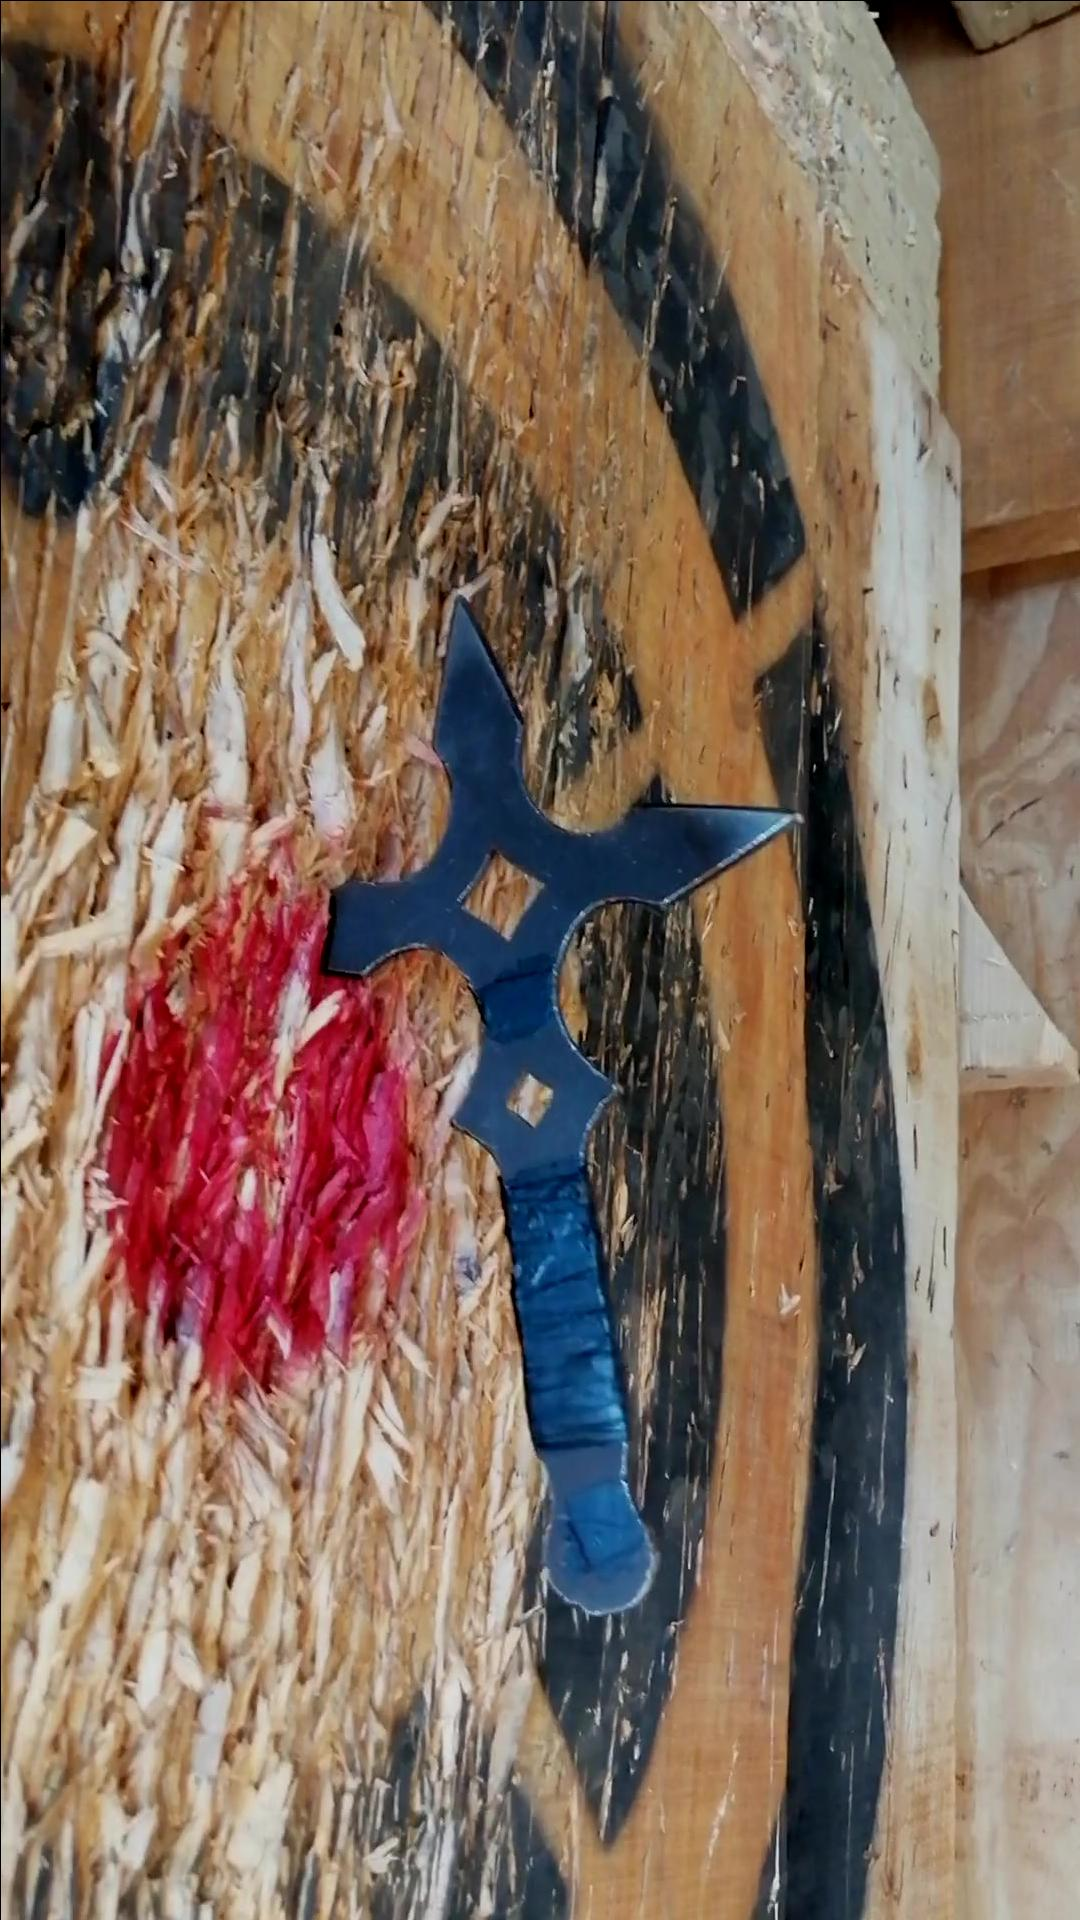Hand Axe: (311, 588, 796, 1619)
